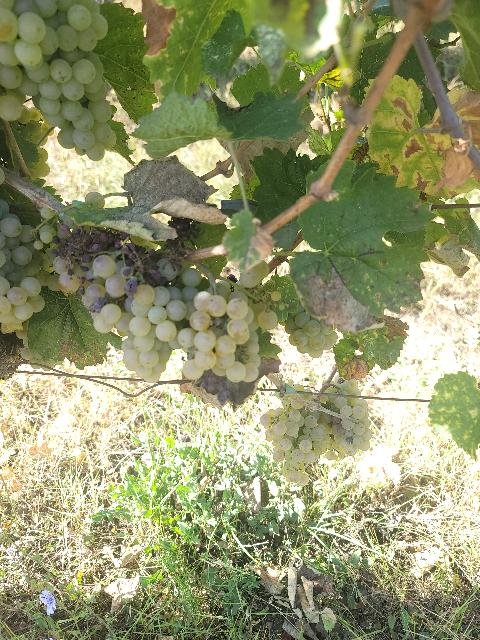grapes: (0, 206, 171, 380), (112, 269, 278, 382), (12, 0, 116, 160), (260, 395, 330, 485), (335, 380, 372, 456)
